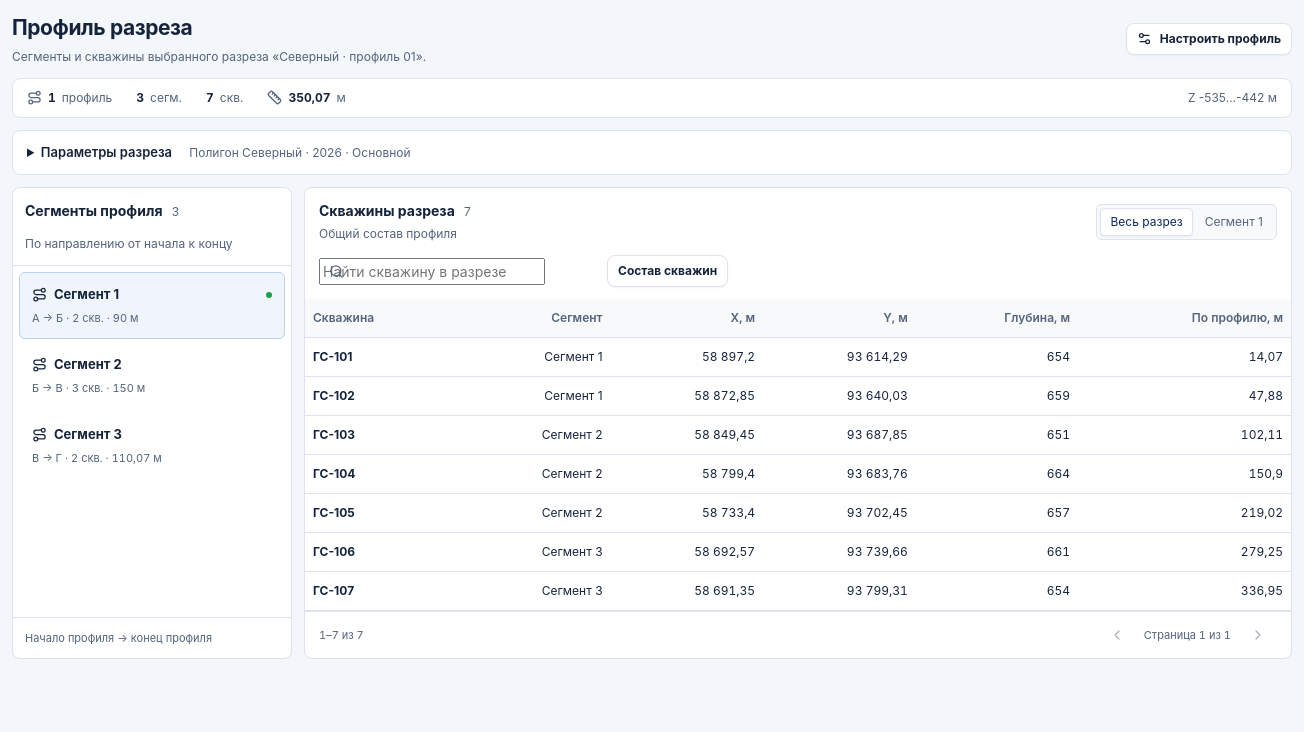
Test: selected section setup › filters wells by the selected segment and by name without accessing the whole field
Click the button "Сегмент 1" at coordinates (1234, 222), box x1=1195 y1=208 x2=1273 y2=236
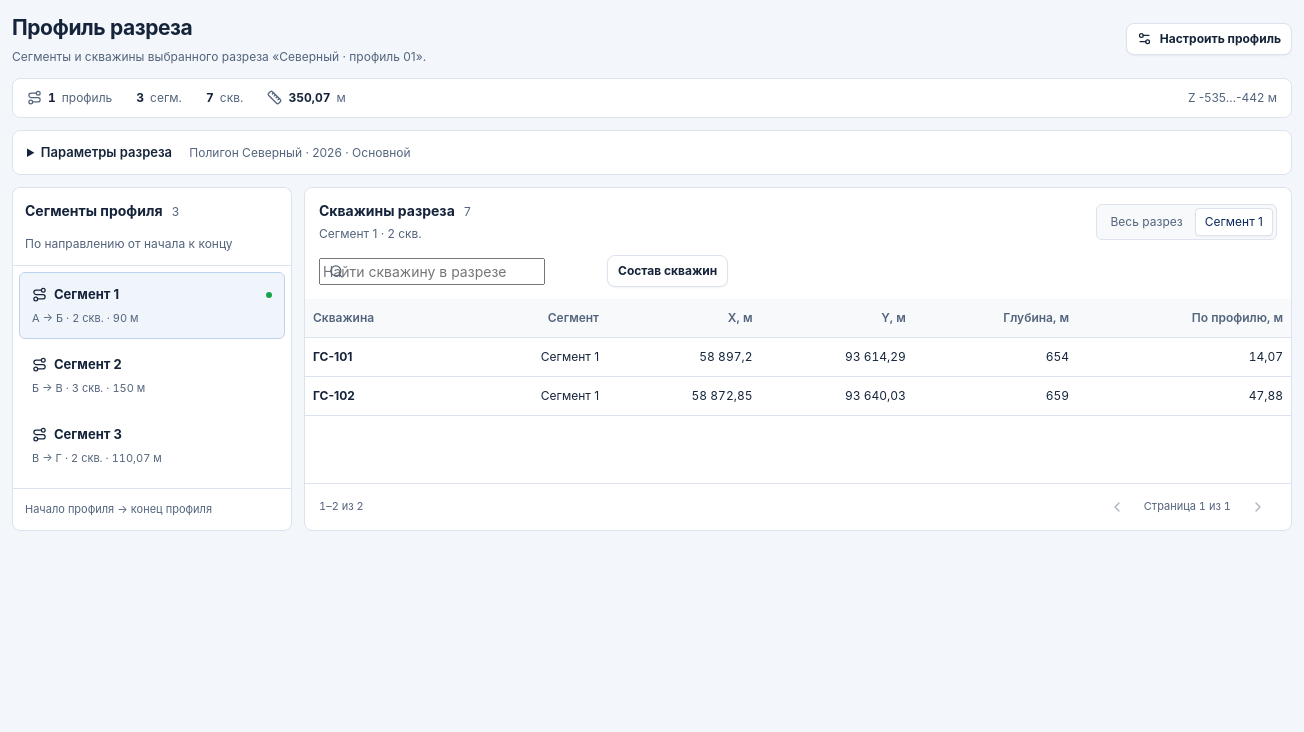
Now the number of rows is 3, box x1=305 y1=299 x2=1291 y2=338; x1=305 y1=338 x2=1291 y2=376; x1=305 y1=376 x2=1291 y2=416
Click the button "Сегмент 2 Б → В · 3 скв. · 150 м" at coordinates (84, 364), box x1=19 y1=342 x2=285 y2=409
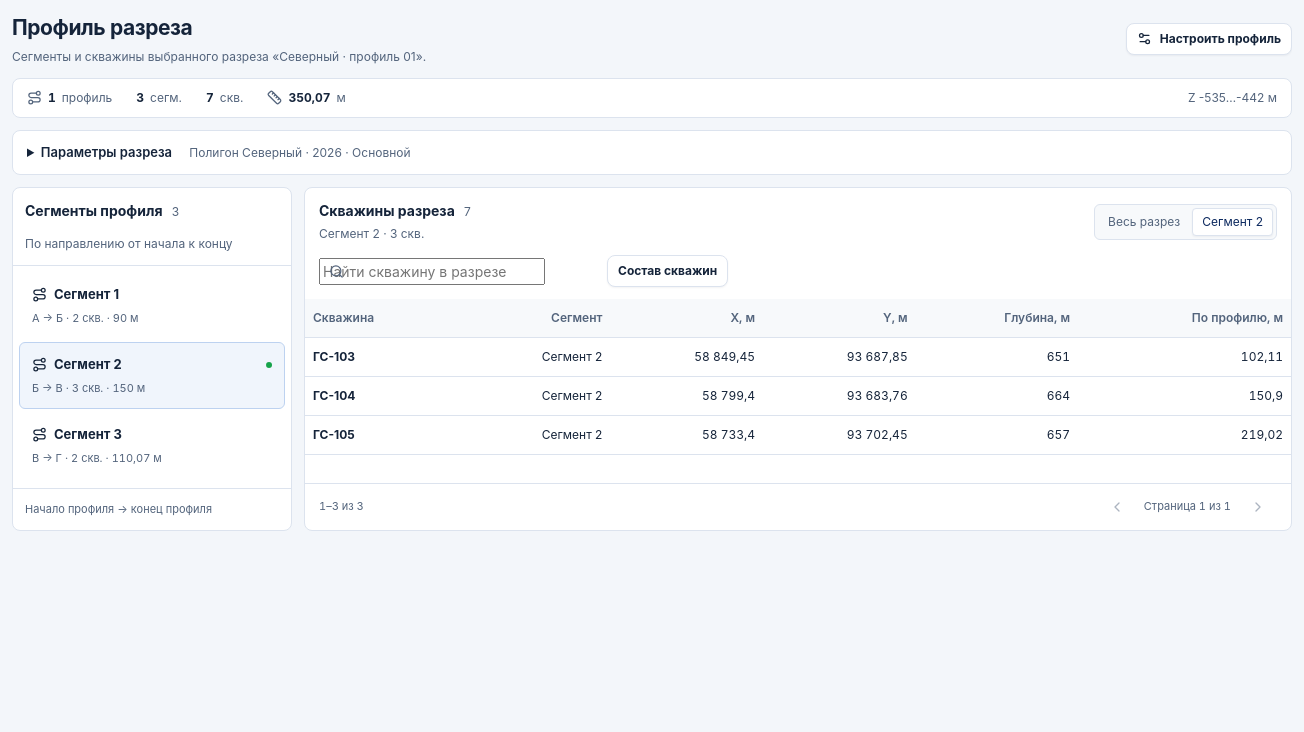
Now the number of rows is 4, box x1=305 y1=299 x2=1291 y2=338; x1=305 y1=338 x2=1291 y2=376; x1=305 y1=376 x2=1291 y2=416; x1=305 y1=416 x2=1291 y2=454
Type "ГС-104" into the field named "Поиск скважины разреза" at coordinates (432, 271), box x1=319 y1=258 x2=545 y2=284
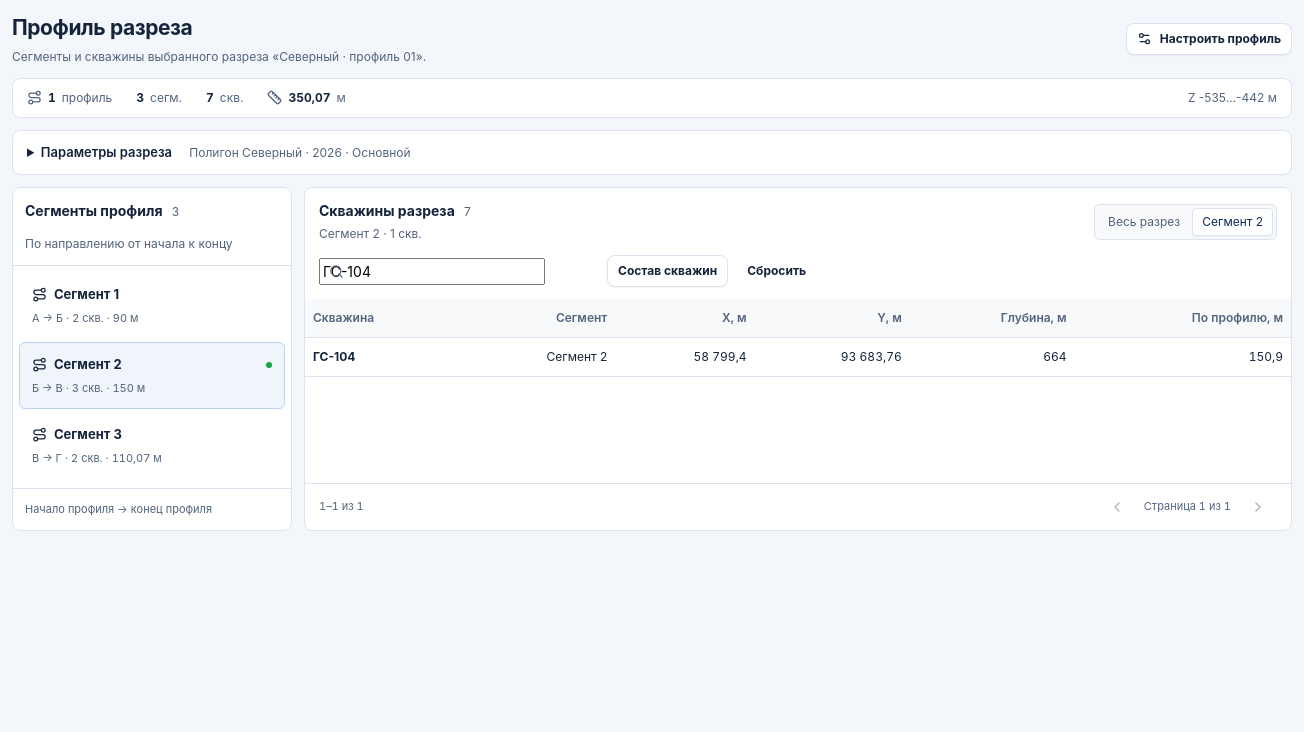
Now the number of rows is 2, box x1=305 y1=299 x2=1291 y2=338; x1=305 y1=338 x2=1291 y2=376
Replace the text in the field named "Поиск скважины разреза" with "нет" at coordinates (432, 271), box x1=319 y1=258 x2=545 y2=284
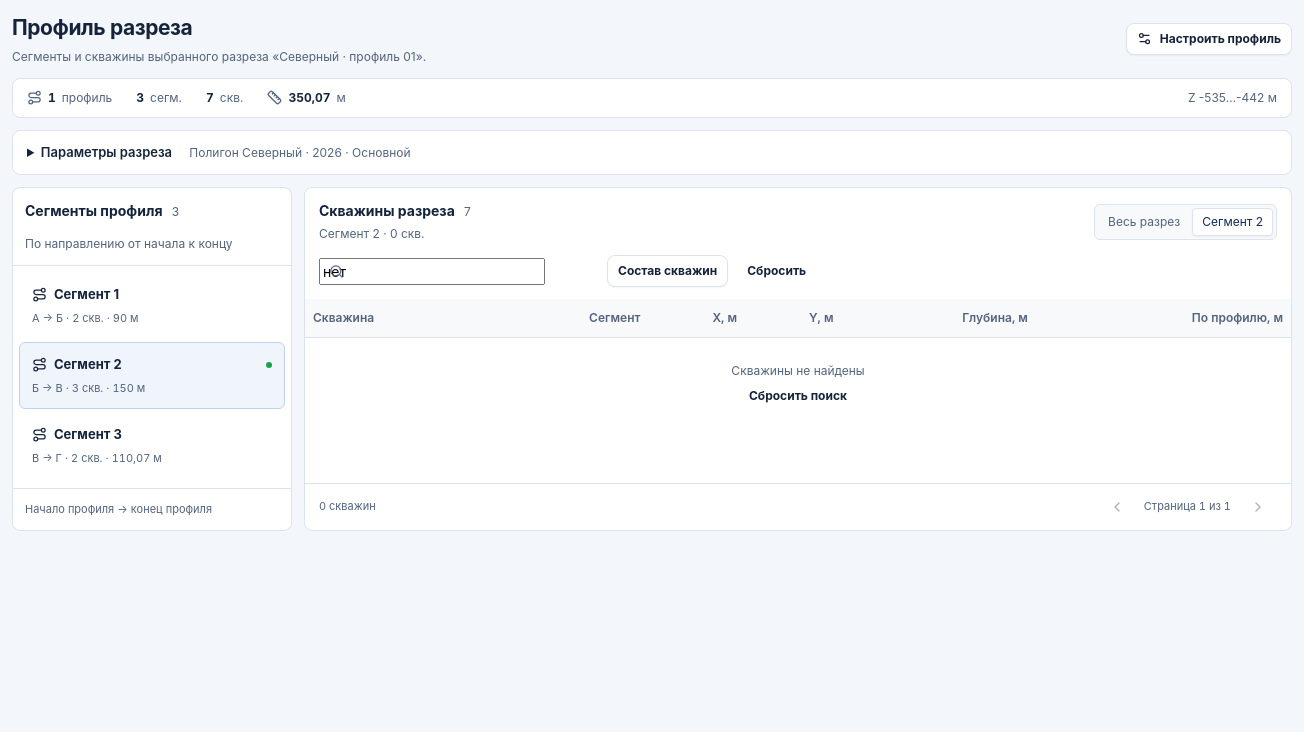
Now the text "Скважины не найдены" is shown, box x1=731 y1=363 x2=865 y2=378
